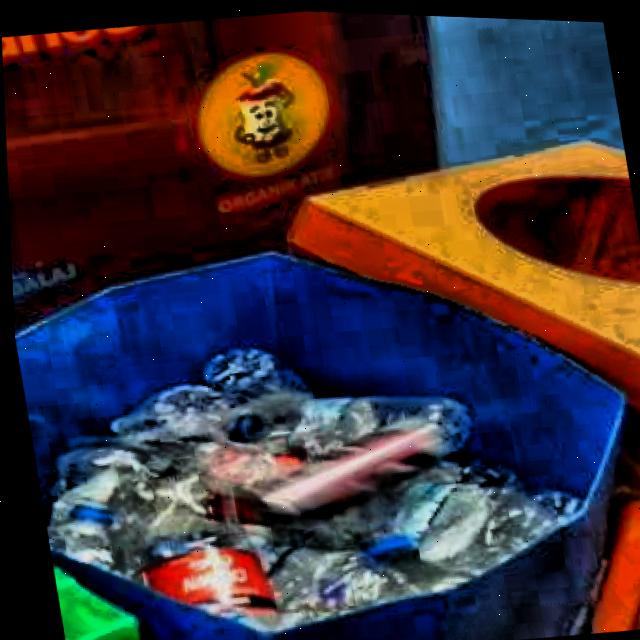metal: (250, 422, 442, 517)
